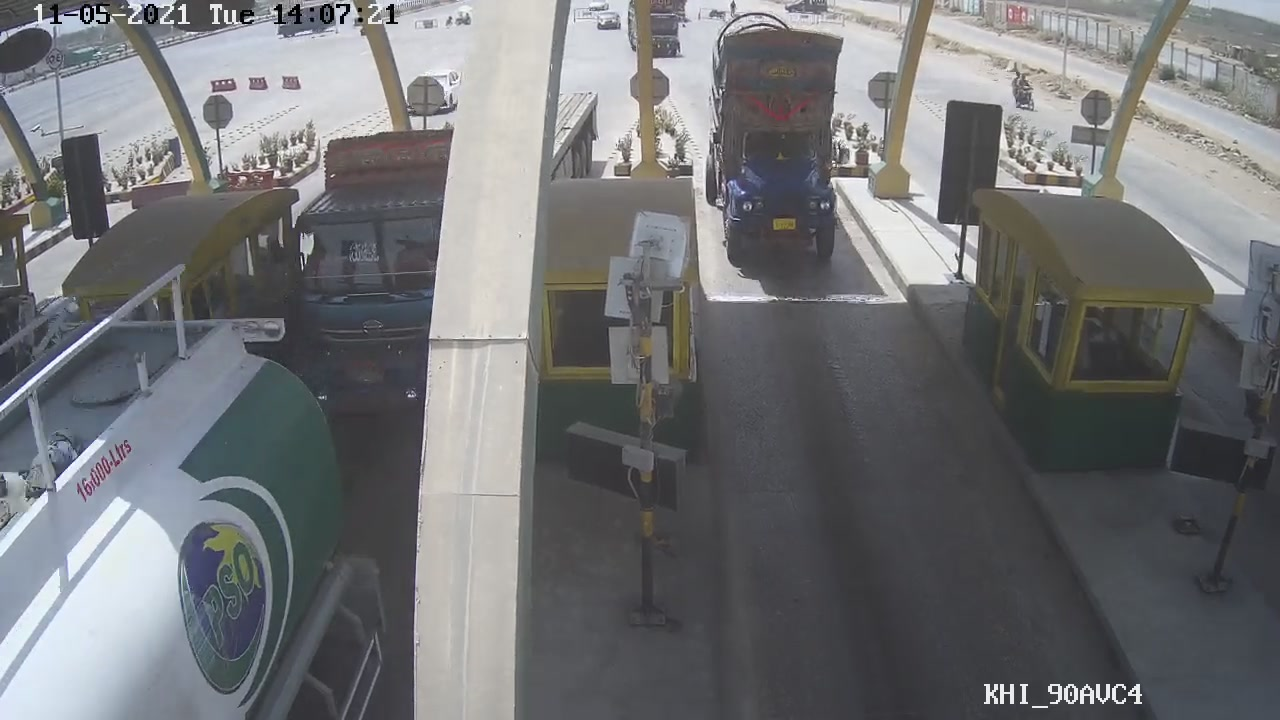F5: (693, 10, 869, 281)
